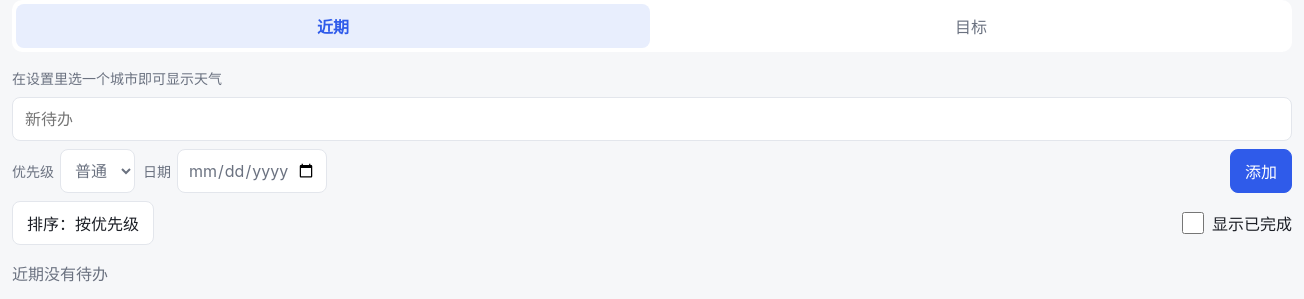
has two tabs: 近期 and 目标
Check: the element showing "近期 目标" is shown, box [12,0,1292,52]
Step 1. Click the tab "目标" → [971, 26], box [654,4,1288,48]
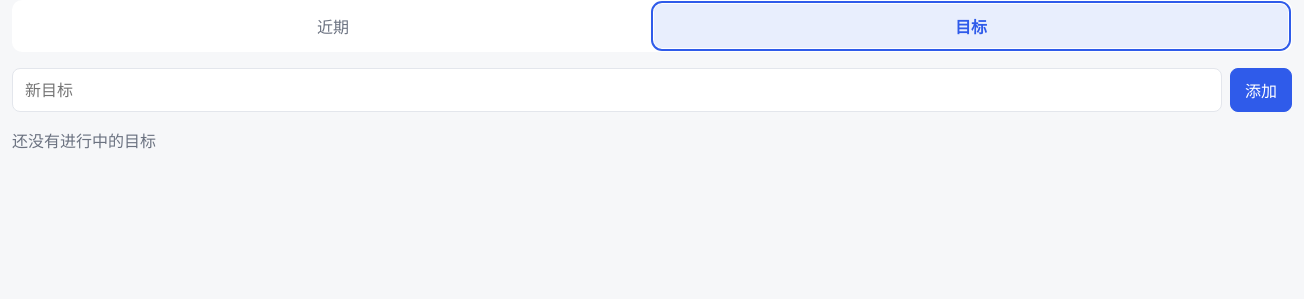
Check: the field with placeholder "新目标" is shown, box [12,68,1222,112]
